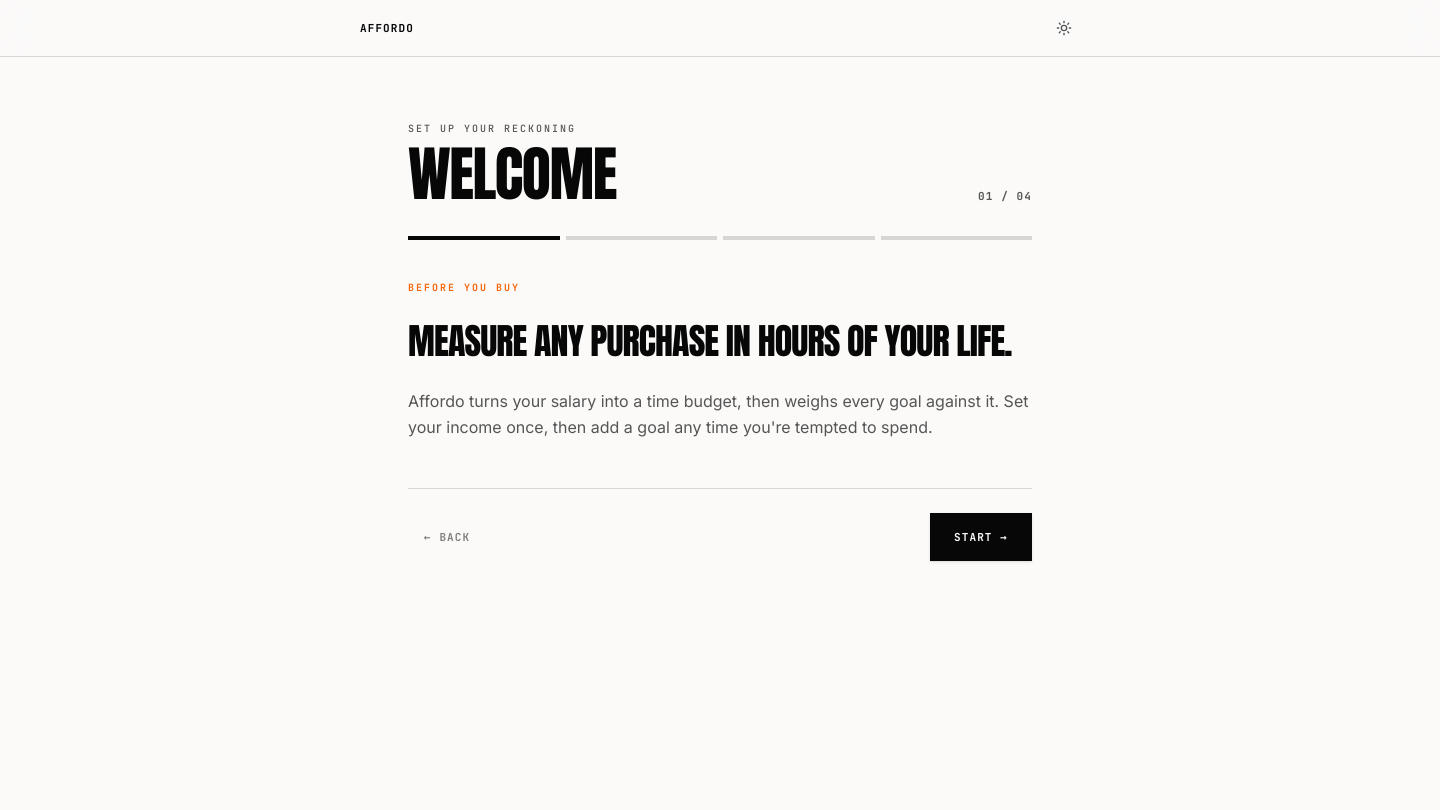
Test: OnboardingWizard — primary control label › reads Continue → on the middle steps
What coordinates should you click on to do the following:
click the button "Start →"
I would click on:
 (981, 537)
Its box is [930,513,1032,561].
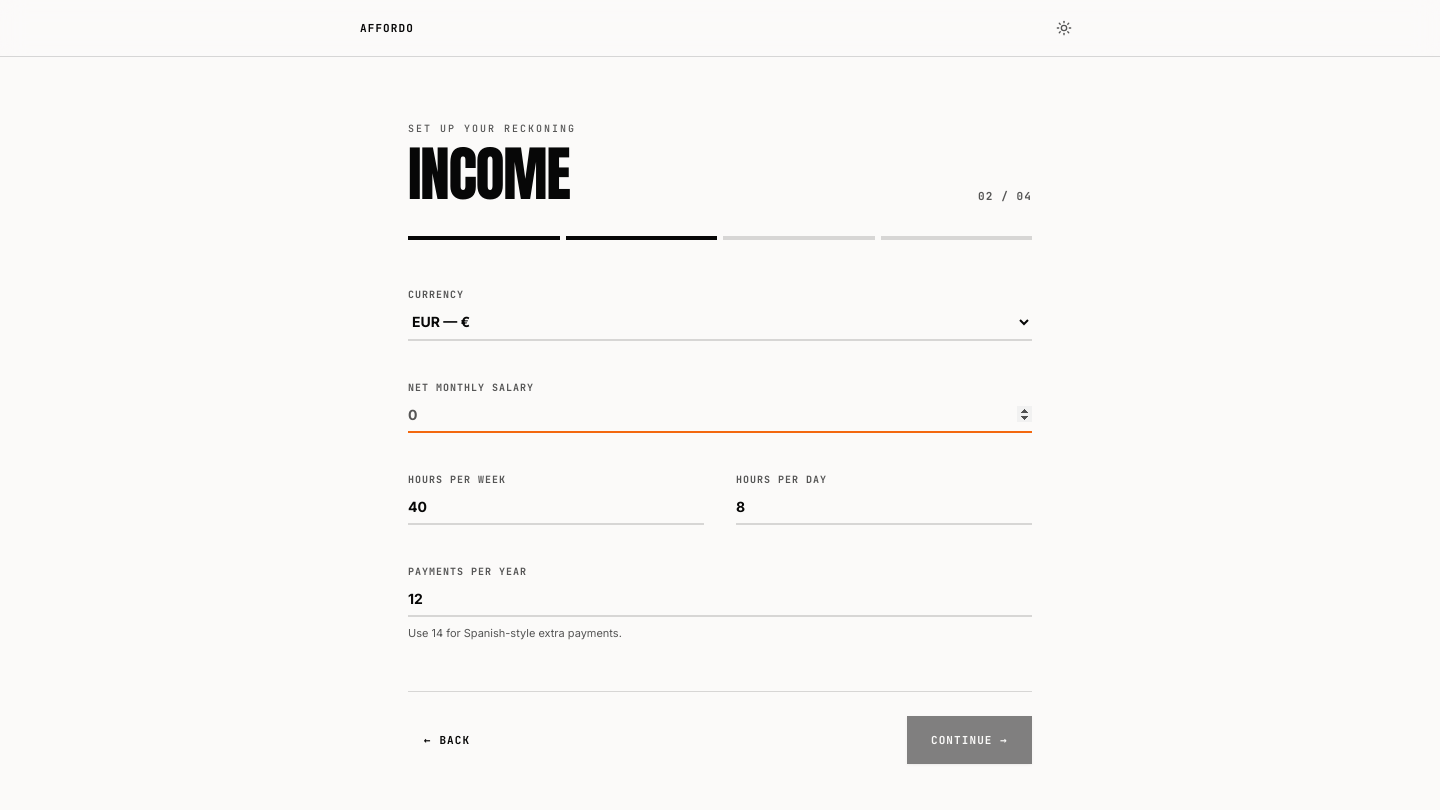
Result: the button "Continue →" is shown at [907,716,1032,764]
